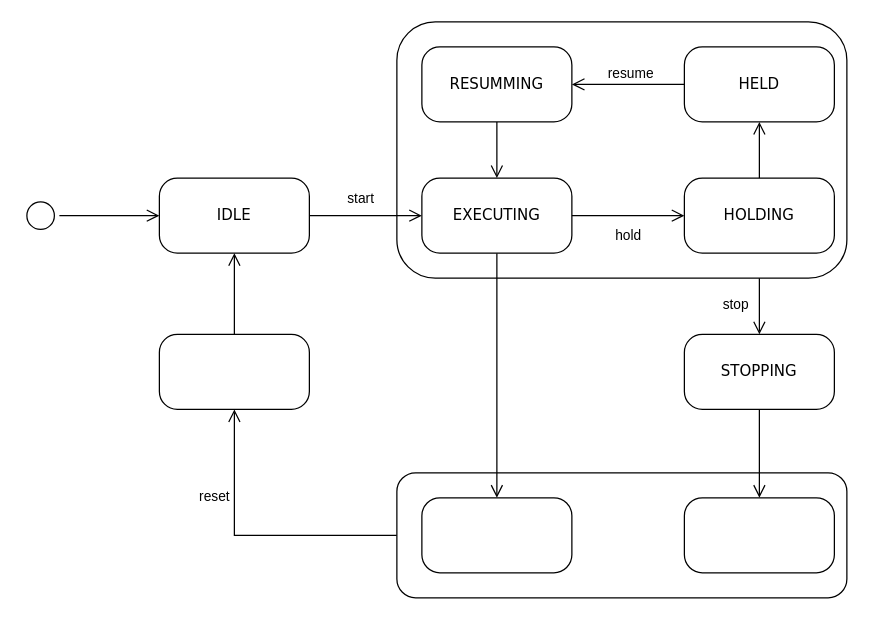
The diagram is 869 pixels wide and 620 high, and some of its shapes have lost their labels. The shapes that lost their labels are listed below. From the top down, each one's centre as x and y in pixels, then its label:
At point 233,371: "RESETTING".
At point 496,534: "COMPLETE".
At point 758,534: "STOPPED".
